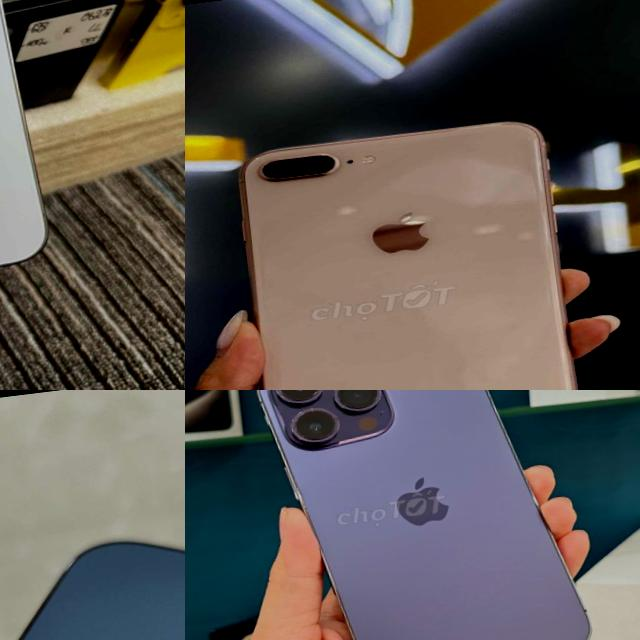gen_12_13: (0, 500, 185, 640), (0, 0, 53, 306)
gen_14: (245, 390, 612, 640)
gen_7_8: (241, 122, 576, 390)
